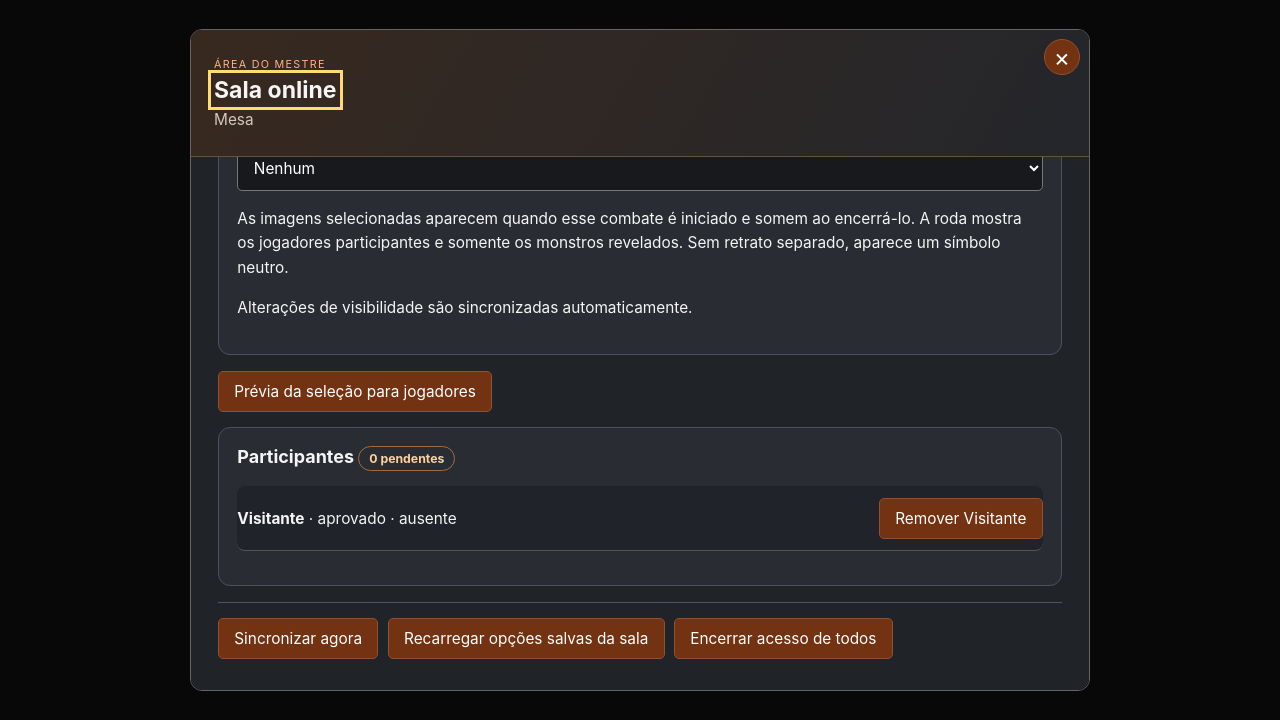
Test case: participante removido some da lista
(page scrolled)
Click the button "Remover Visitante" at x=961, y=518, box x1=879 y1=498 x2=1043 y2=539
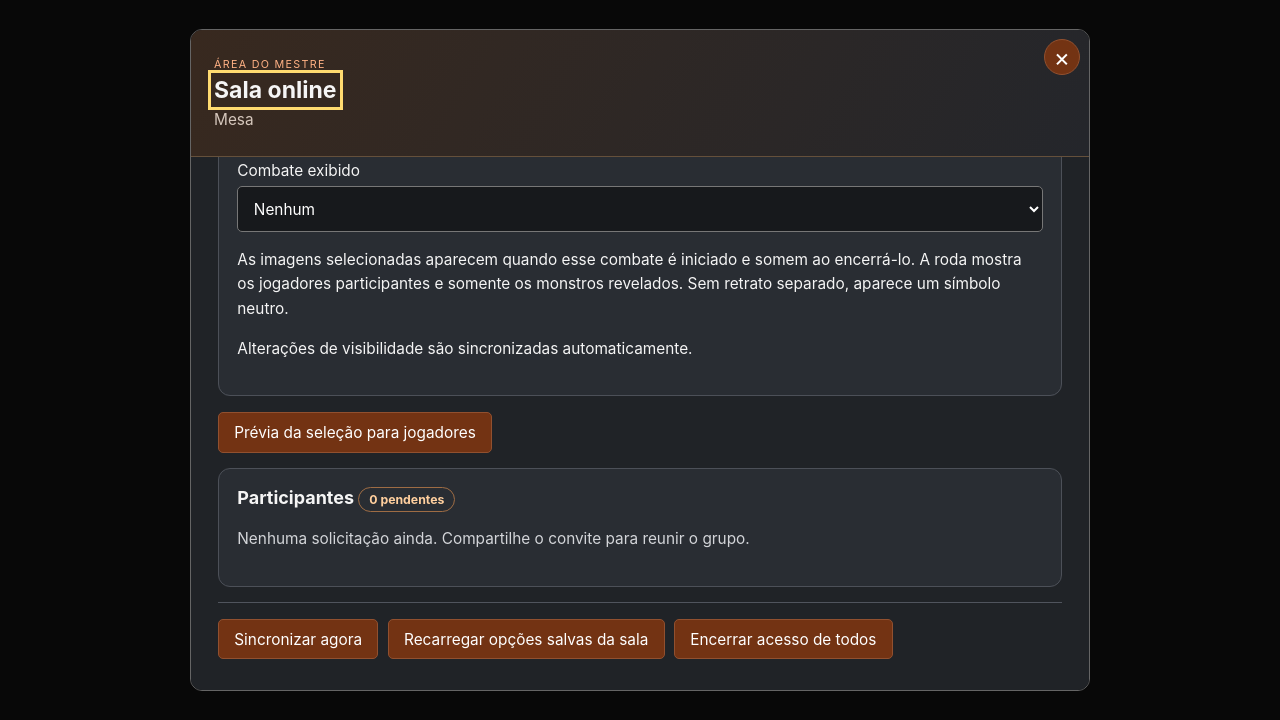
Now the text "Visitante" is gone
